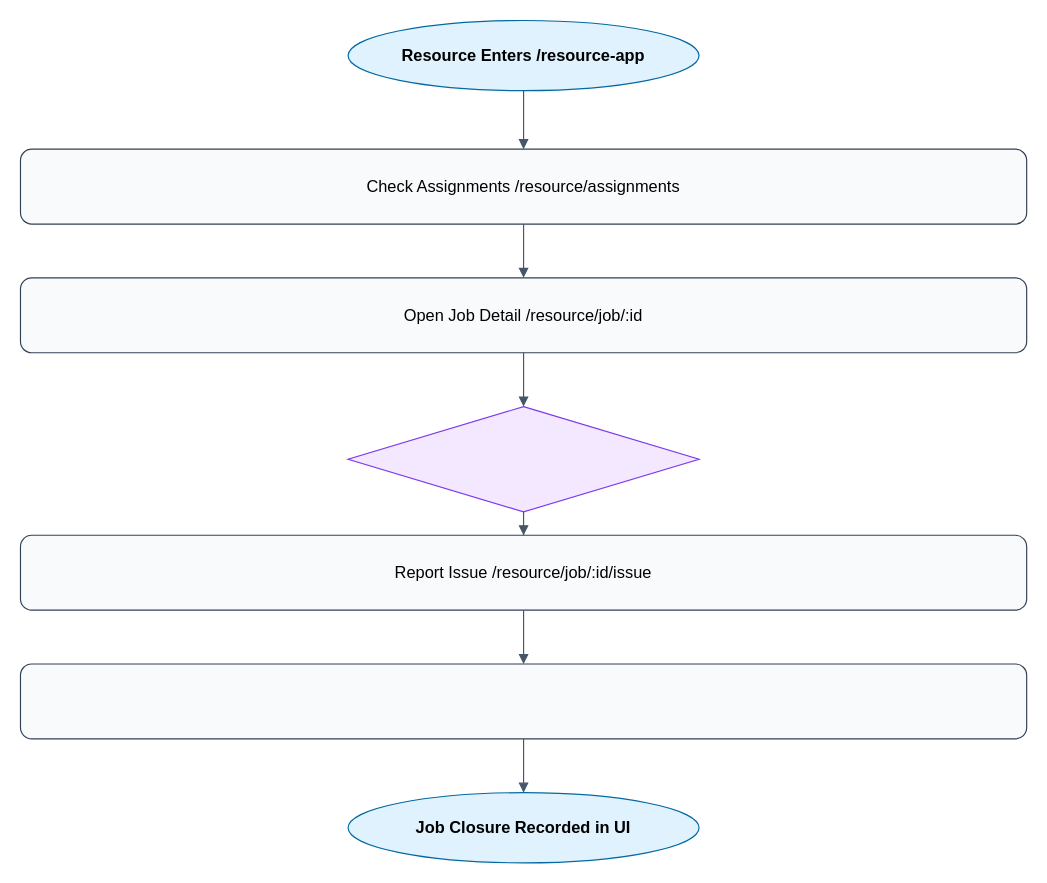
The diagram is 1047 pixels wide and 883 high, and some of its shapes have lost their labels. Each missing label, with the centre of its shape:
"Issue Found?" goes at point (523, 458).
"Upload Proof /resource/job/:id/proof" goes at point (523, 701).
